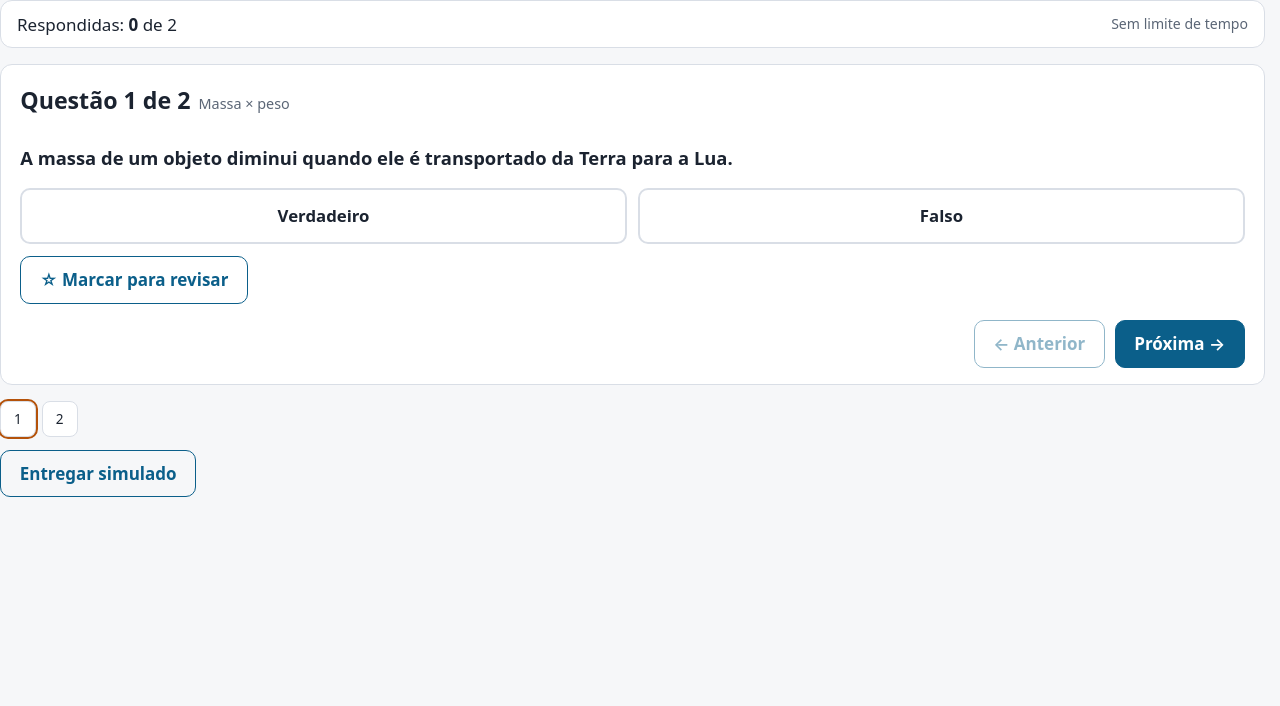
Scenario: simulado com tempo › não revela gabarito antes da entrega; confirma, corrige e registra o simulado
Step 1. Click the button "Falso" → (941, 216), box [638,188,1245,244]
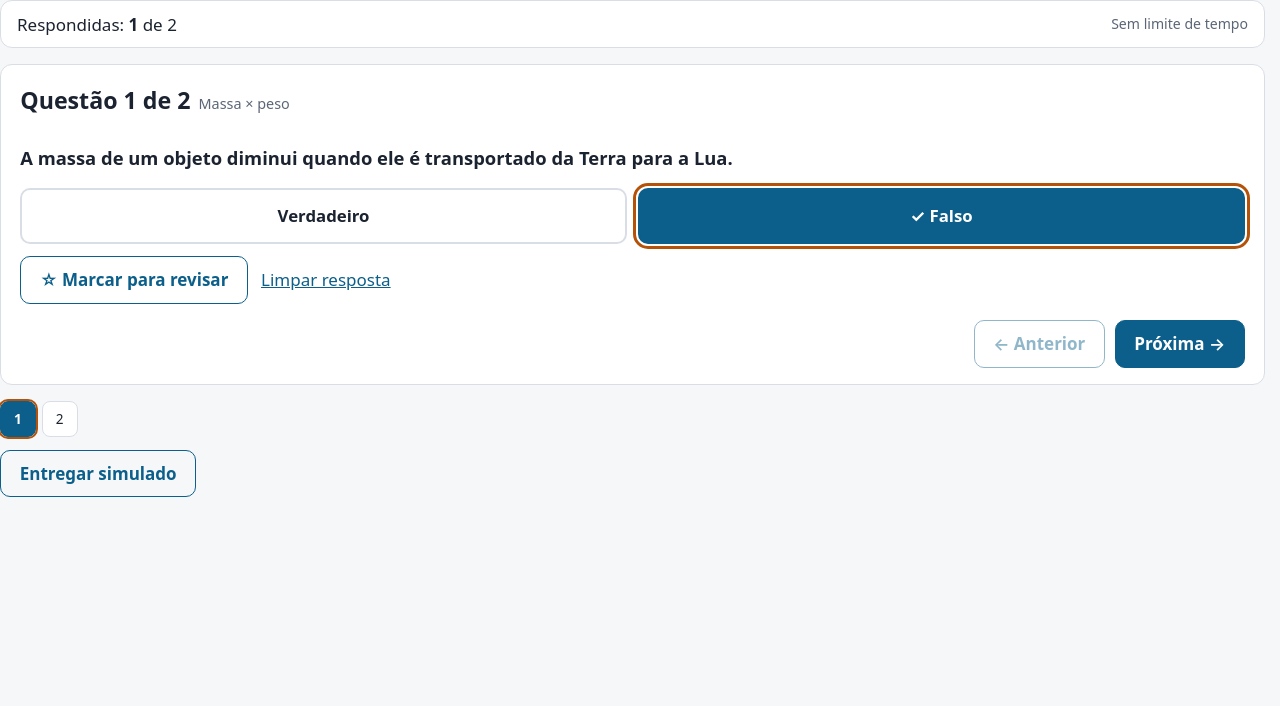
Step 2. Click the button "☆ Marcar para revisar" → (134, 280), box [20,256,248,304]
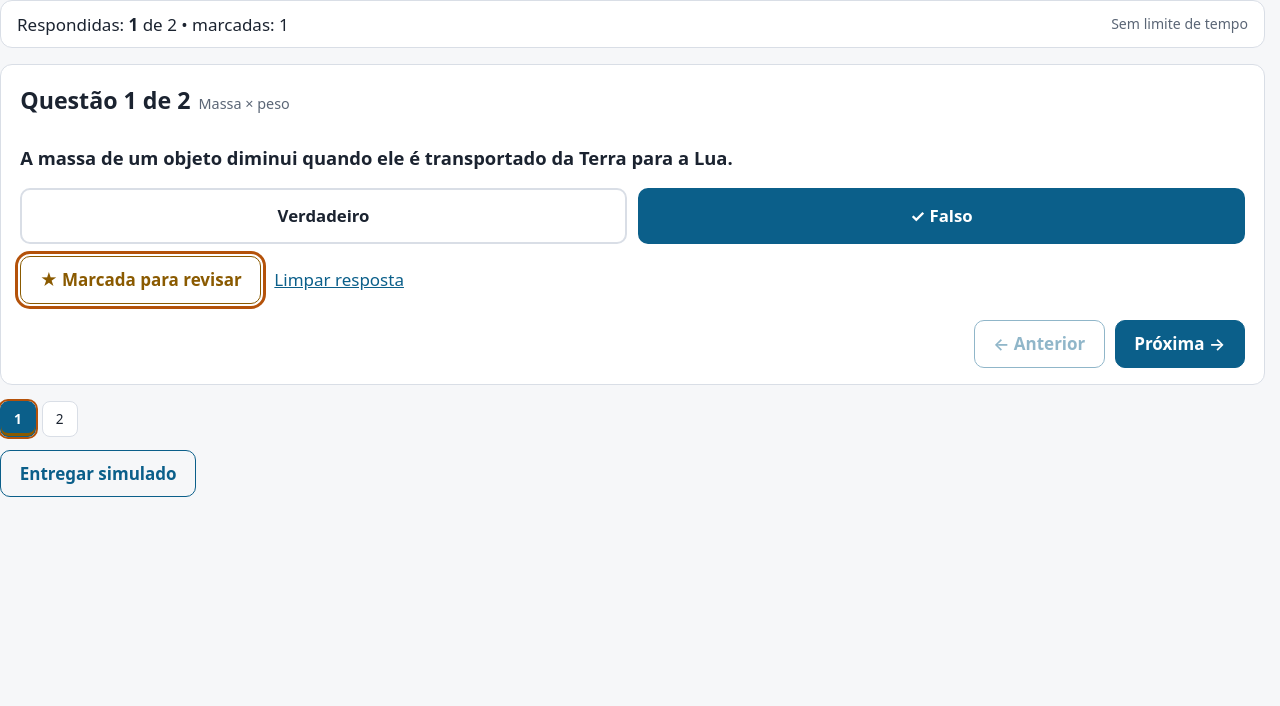
Expected: the text "Julgamento" is not shown
Step 3. Click the button "Entregar simulado" → (98, 474), box [0,450,196,498]
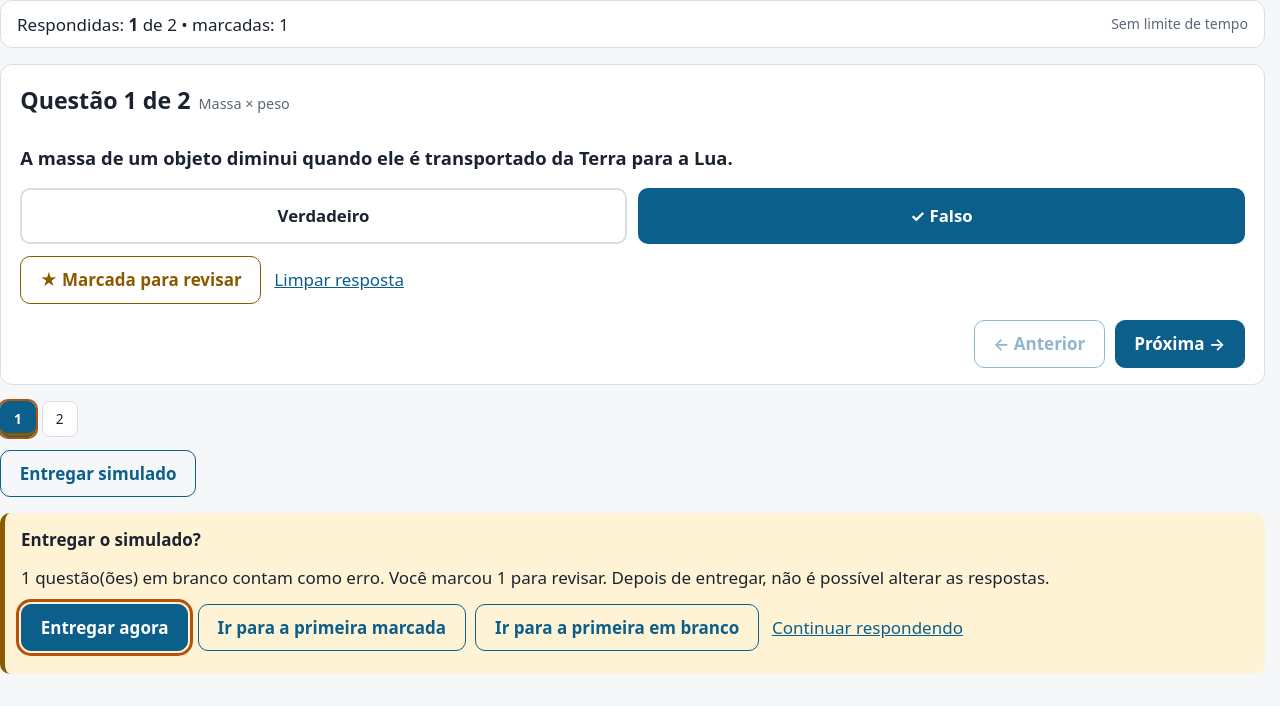
Expected: the text "1 questão(ões) em branco" is shown, [21,566,384,589]
Step 4. Click the button "Entregar agora" → (105, 628), box [21,604,188,652]
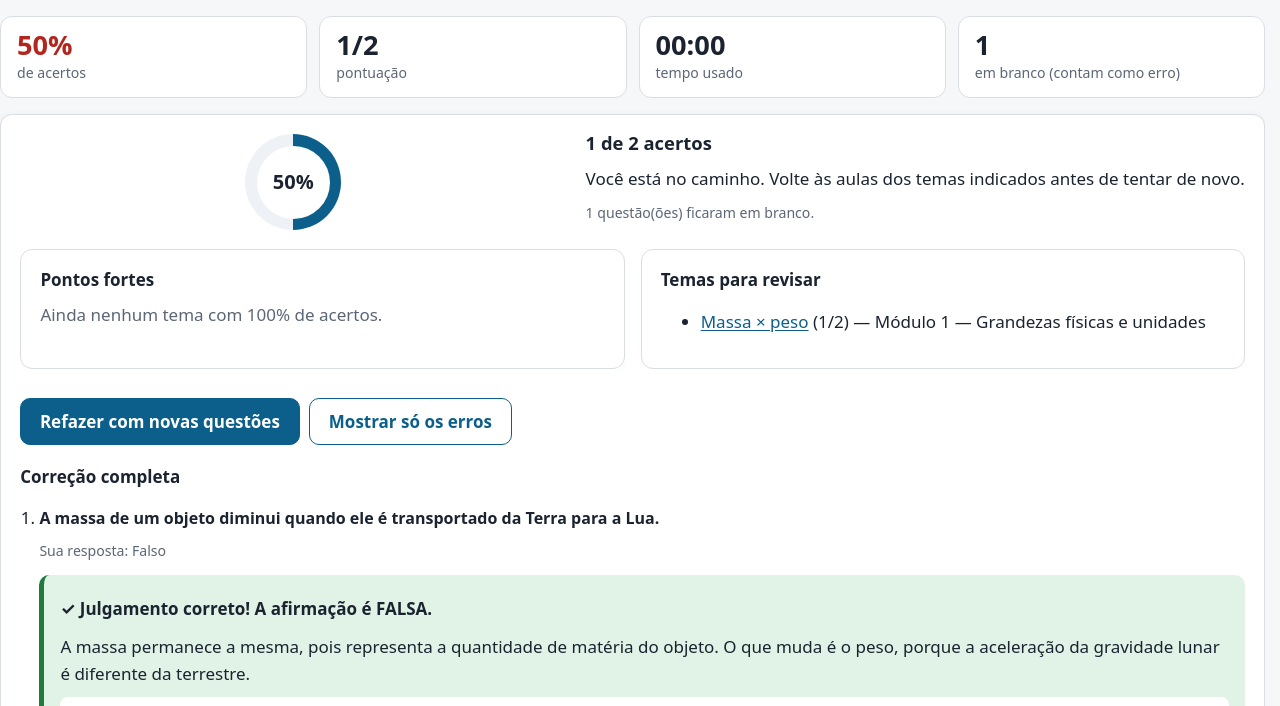
Expected: the text "50%" in the row of "00:00" is shown, [17,26,73,63]
Expected: the text "1/2" is shown, [336,26,379,63]
Expected: the text "✓ Julgamento correto! A afirmação é FALSA." is shown once, [60,597,432,620]
